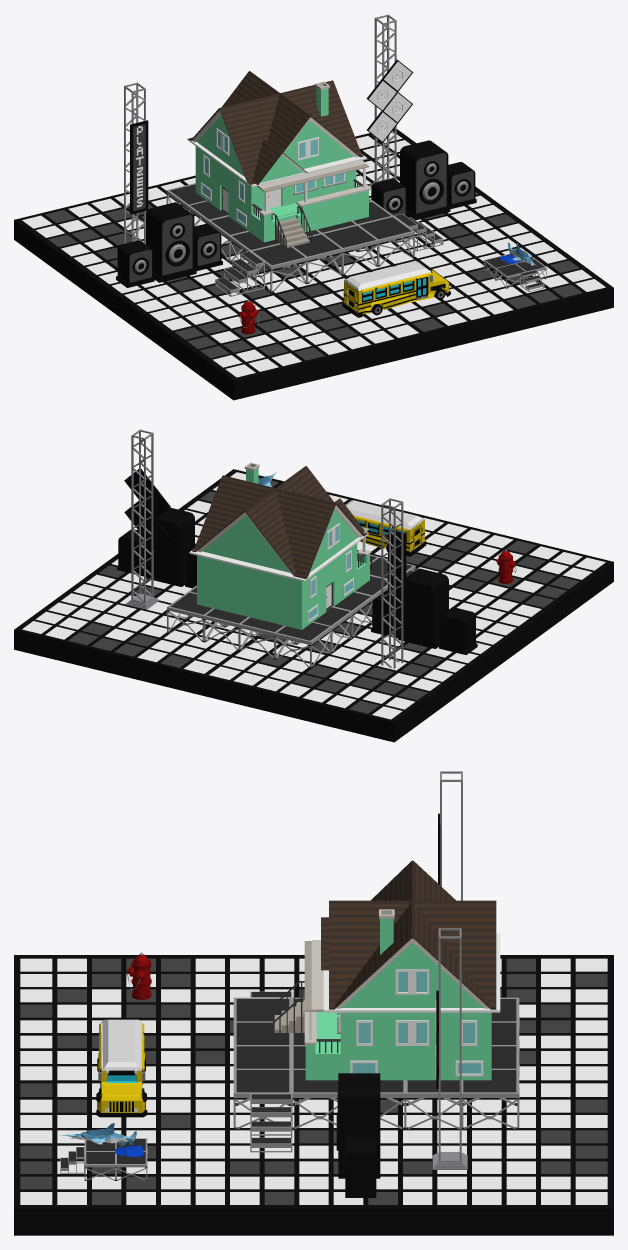
3 views of the same model, one above another, from view 1: azimuth 30°, elevation 25°; view 2: azimuth 150°, elevation 25°; view 3: azimuth 270°, elevation 25° (orthographic). The views are drawn at different scales.
Visible parts, largest first — view 1: Cube.008, Cube.352, VEHICLES_SCHOOL_BUS; view 2: Cube.008, Cube.352, VEHICLES_SCHOOL_BUS, OBJRANDOM_FIRE_HYDRANT; view 3: Cube.008, Cube.352, VEHICLES_SCHOOL_BUS, ANIMAL_PEZ_ESPADA, OBJRANDOM_FIRE_HYDRANT.
Boxes of the visible parts, box(x1,y1,x2,y2) form: Cube.008: box(14, 14, 613, 400); Cube.352: box(187, 71, 371, 248); VEHICLES_SCHOOL_BUS: box(342, 261, 450, 317); Cube.008: box(14, 429, 613, 742); Cube.352: box(189, 462, 372, 629); VEHICLES_SCHOOL_BUS: box(345, 500, 426, 556); OBJRANDOM_FIRE_HYDRANT: box(496, 549, 516, 583); Cube.008: box(14, 771, 613, 1235); Cube.352: box(272, 860, 500, 1080); VEHICLES_SCHOOL_BUS: box(96, 1019, 147, 1117); ANIMAL_PEZ_ESPADA: box(60, 1123, 143, 1157); OBJRANDOM_FIRE_HYDRANT: box(126, 952, 151, 999).
Size of the model in its own units: 4000 by 1972 by 4000.
47 materials, 1 textured.
